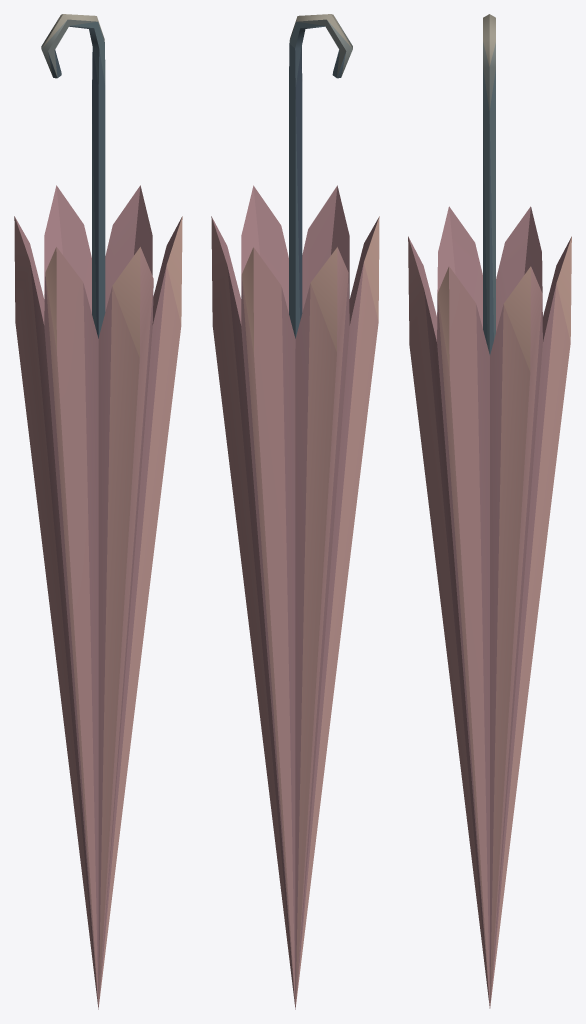
Rendered from umbrella.fbx.
The picture shows the model from 3 angles, left to right: view 1: azimuth 30°, elevation 25°; view 2: azimuth 150°, elevation 25°; view 3: azimuth 270°, elevation 25°; orthographic projection. The views are drawn at different scales.
Visible parts, largest first — view 1: umbrella; view 2: umbrella; view 3: umbrella.
Part boxes in pixels (box(x1,y1,x2,y2)): umbrella: box(14, 14, 182, 1009); umbrella: box(211, 14, 379, 1009); umbrella: box(408, 14, 571, 1008).
Size of the model in its own units: 9.46 by 72.01 by 10.92.
